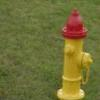Hydrant: (52, 5, 94, 100)
